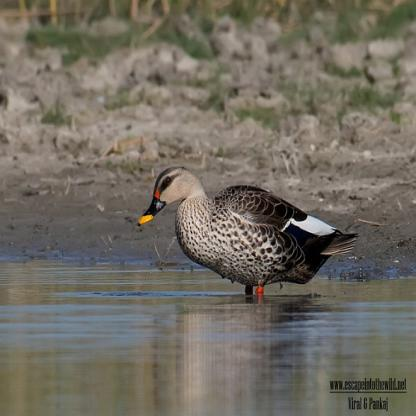Burung: (138, 166, 358, 298)
